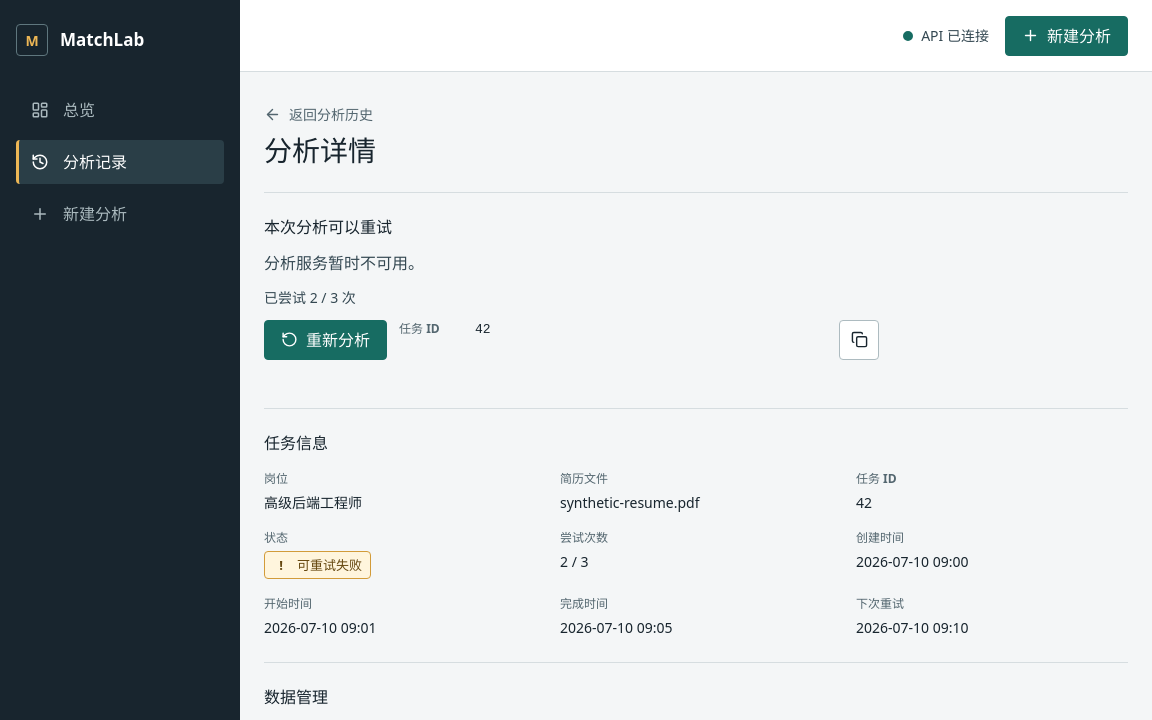
Test case: resyncs the exact task when the retry response is lost after the server accepts it
Click the button "重新分析".
click(326, 340)  # box left=264, top=320, right=387, bottom=360
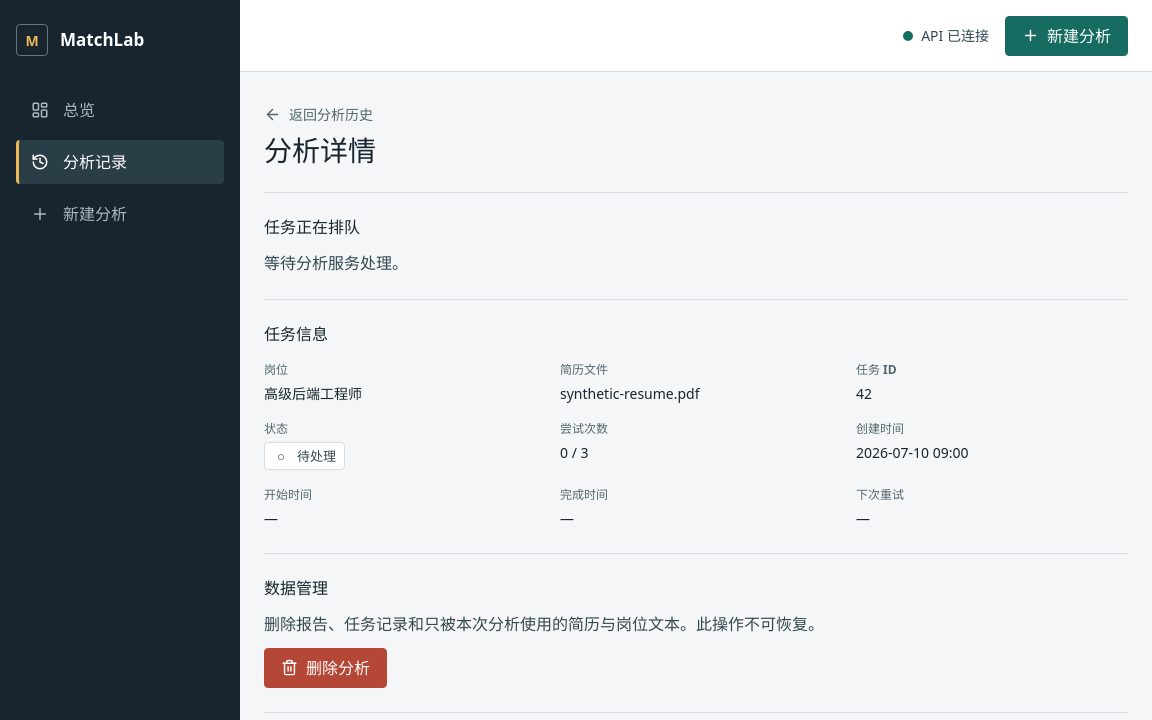
Result: the text "待处理" is shown at left=297, top=447, right=336, bottom=465
Result: the button "重新分析" is gone
